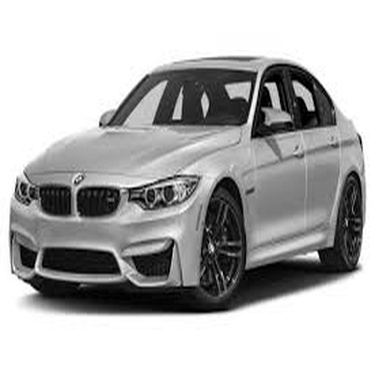car: (6, 46, 359, 299)
